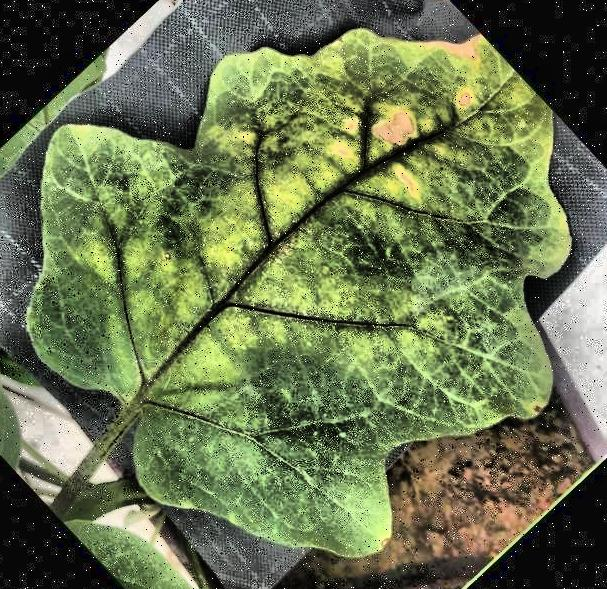Critical Stress: (0, 1, 607, 589)
